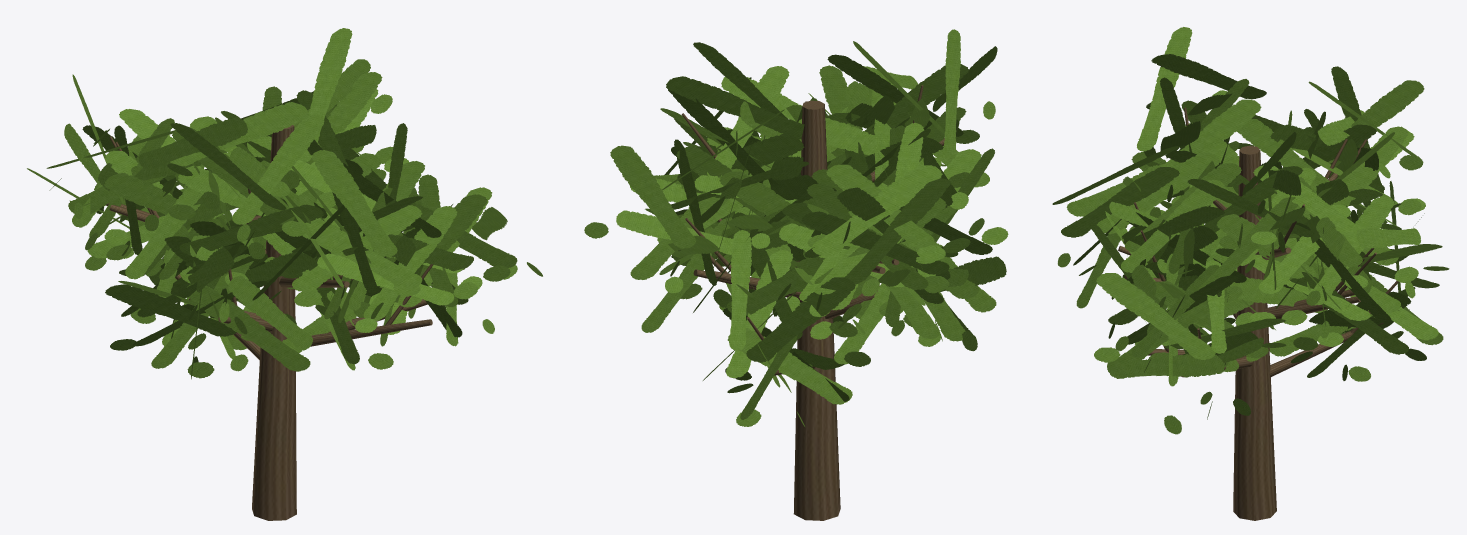
3 renders of one model, left to right at view 1: azimuth 30°, elevation 25°; view 2: azimuth 150°, elevation 25°; view 3: azimuth 270°, elevation 25°, orthographic. The views are drawn at different scales.
Parts seen in each view (by area): view 1: oak-leaf, oak-bark; view 2: oak-leaf, oak-bark; view 3: oak-leaf, oak-bark.
Part boxes in pixels (bbox=[...]): oak-leaf: bbox=[27, 28, 542, 379]; oak-bark: bbox=[106, 125, 433, 520]; oak-leaf: bbox=[584, 29, 1008, 426]; oak-bark: bbox=[681, 85, 944, 520]; oak-leaf: bbox=[1052, 27, 1449, 434]; oak-bark: bbox=[1118, 107, 1398, 520].
Size of the model in its own units: 7.82 by 9.2 by 7.84.
2 materials, 2 textured.
